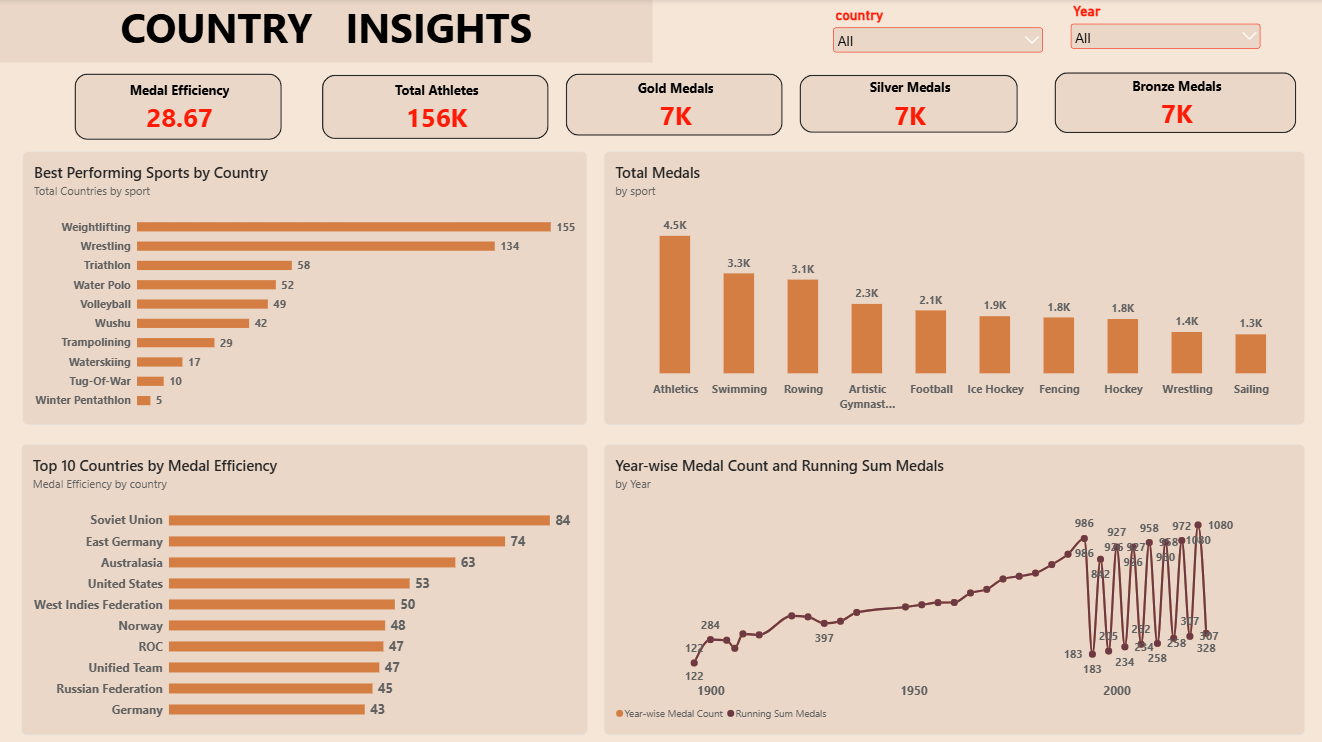

Layout of this report page (visuals, bound fields, positions):
{"tool":"powerbi","page":{"name":"Country Insights 2","canvas":[1920,1080],"ordinal":1},"visuals":[{"type":"barChart","title":"Top 10 Countries by Medal Efficiency","fields":{"Y":["measure table.Medal Efficiency"],"Category":["Olympics_Country.country"]},"box":[30.8,644.2,819.8,421.7],"z":0},{"type":"barChart","title":"Best Performing Sports by Country","fields":{"Category":["Olympic_Results.sport"],"Y":["measure table.Total Countries"]},"box":[32.6,220.8,818,396.3],"z":1000},{"type":"lineChart","fields":{"Category":["Calendar.Year"],"Y":["measure table.Year-wise Medal Count","measure table.Running Sum Medals"]},"box":[874.1,644.2,1015.2,421.7],"z":2000},{"type":"columnChart","fields":{"Category":["Olympic_Athlete_Event_Results.sport"],"Y":["measure table.Total Medals"]},"box":[874.1,220.8,1015.2,396.3],"z":3000},{"type":"cardVisual","fields":{"Data":["measure table.Medal Efficiency"]},"box":[95.9,95.9,324,120],"z":4000},{"type":"cardVisual","fields":{"Data":["measure table.Total Athletes"]},"box":[454.2,97.7,352.9,117.6],"z":5000},{"type":"cardVisual","fields":{"Data":["measure table.Bronze Medals"]},"box":[1514.7,94.1,374,112],"z":6000},{"type":"cardVisual","fields":{"Data":["measure table.Gold Medals"]},"box":[807.1,95.9,338,114],"z":7000},{"type":"cardVisual","fields":{"Data":["measure table.Silver Medals"]},"box":[1145.5,97.7,340,108],"z":8000},{"type":"textbox","box":[0,0,944.6,92.3],"z":9000},{"type":"slicer","fields":{"Values":["Olympics_Country.country"]},"box":[1201.6,10.9,313.1,83.2],"z":10000},{"type":"slicer","fields":{"Values":["Calendar.Year"]},"box":[1545.5,5.4,284.1,83.2],"z":11000}]}

Visuals, with their boxes in screenshot pixels (x1, y1, x2, y2), scaled from the page's 1920x1080 canvas onto the 1322x742 screenshot:
"Top 10 Countries by Medal Efficiency" barChart: 21,443,586,732
"Best Performing Sports by Country" barChart: 22,152,586,424
lineChart - Calendar.Year x measure table.Year-wise Medal Count: 602,443,1301,732
columnChart - Olympic_Athlete_Event_Results.sport x measure table.Total Medals: 602,152,1301,424
cardVisual - measure table.Medal Efficiency: 66,66,289,148
cardVisual - measure table.Total Athletes: 313,67,556,148
cardVisual - measure table.Bronze Medals: 1043,65,1300,142
cardVisual - measure table.Gold Medals: 556,66,788,144
cardVisual - measure table.Silver Medals: 789,67,1023,141
textbox: 0,0,650,63
slicer - Olympics_Country.country: 827,7,1043,65
slicer - Calendar.Year: 1064,4,1260,61
